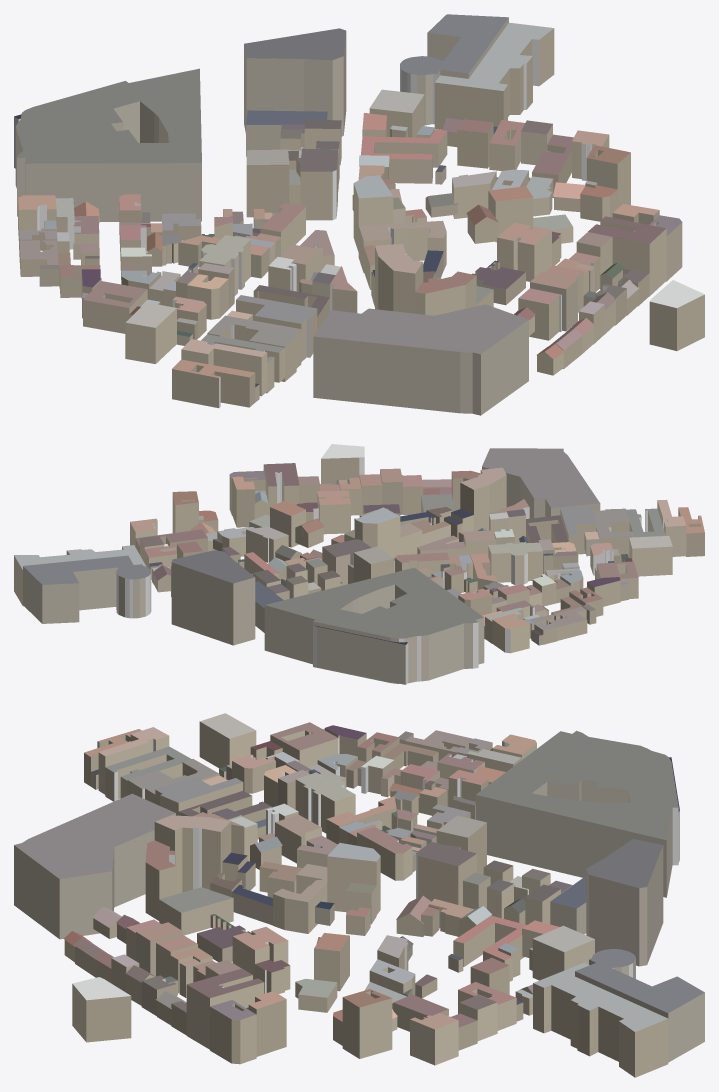
3 renders of one model, top to bottom at view 1: azimuth 30°, elevation 25°; view 2: azimuth 150°, elevation 25°; view 3: azimuth 270°, elevation 25°, orthographic. The views are drawn at different scales.
Visible parts, largest first — view 1: tuile; view 2: tuile; view 3: tuile.
Boxes of the visible parts, x1=… form: tuile: x1=14, y1=14, x2=704, y2=415; tuile: x1=14, y1=444, x2=704, y2=684; tuile: x1=14, y1=713, x2=704, y2=1077.
Size of the model in its own units: 276 by 49.48 by 264.
